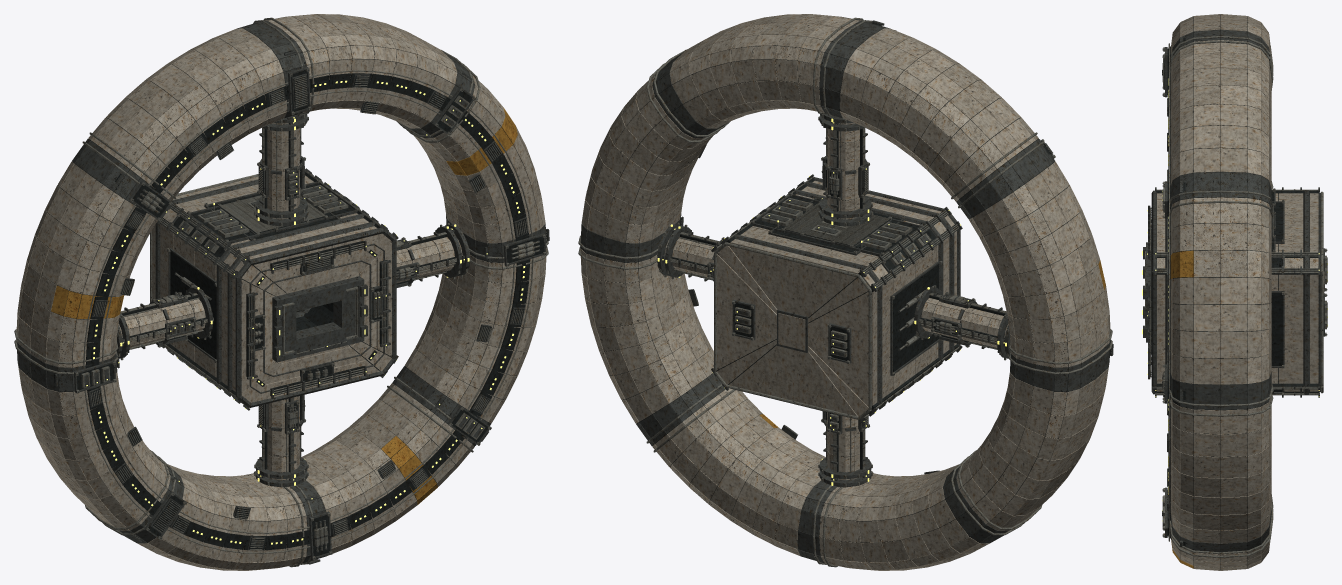
File: trade-ring.glb
The picture shows the model from 3 angles, left to right: view 1: azimuth 30°, elevation 25°; view 2: azimuth 150°, elevation 25°; view 3: azimuth 270°, elevation 25°; orthographic projection. The views are drawn at different scales.
Parts seen in each view (by area): view 1: static/cladding-armour-0, static/dark-structure, static/cladding-armour-2, static/cladding-armour-1, static/recess-black, static/cladding-armour-3, static/machined-alloy, static/cladding-dark-structure, static/plate-backing, static/cladding-service-ochre, static/amber-lamp; view 2: static/cladding-armour-0, static/cladding-armour-2, static/cladding-armour-1, static/cladding-armour-3, static/dark-structure, static/machined-alloy, static/cladding-dark-structure, static/recess-black, static/plate-backing; view 3: static/cladding-armour-1, static/cladding-armour-0, static/cladding-armour-3, static/cladding-armour-2, static/machined-alloy, static/cladding-dark-structure, static/dark-structure, static/recess-black, static/plate-backing, static/cladding-service-ochre.
Part boxes in pixels (left/top/right/bottom): static/cladding-armour-0: left=17, top=14, right=546, bottom=569; static/dark-structure: left=54, top=50, right=549, bottom=564; static/cladding-armour-2: left=18, top=16, right=545, bottom=570; static/cladding-armour-1: left=16, top=14, right=546, bottom=570; static/recess-black: left=54, top=50, right=546, bottom=560; static/cladding-armour-3: left=17, top=14, right=545, bottom=570; static/machined-alloy: left=14, top=17, right=548, bottom=567; static/cladding-dark-structure: left=16, top=21, right=546, bottom=563; static/plate-backing: left=23, top=35, right=538, bottom=562; static/cladding-service-ochre: left=51, top=107, right=517, bottom=504; static/amber-lamp: left=86, top=80, right=525, bottom=544; static/cladding-armour-0: left=580, top=14, right=1110, bottom=570; static/cladding-armour-2: left=581, top=14, right=1109, bottom=570; static/cladding-armour-1: left=580, top=14, right=1107, bottom=569; static/cladding-armour-3: left=581, top=14, right=1109, bottom=570; static/dark-structure: left=657, top=20, right=1113, bottom=486; static/machined-alloy: left=578, top=17, right=1112, bottom=567; static/cladding-dark-structure: left=580, top=21, right=1110, bottom=563; static/recess-black: left=671, top=23, right=1110, bottom=472; static/plate-backing: left=586, top=30, right=1106, bottom=562; static/cladding-armour-1: left=1170, top=16, right=1324, bottom=570; static/cladding-armour-0: left=1170, top=16, right=1318, bottom=570; static/cladding-armour-3: left=1157, top=14, right=1318, bottom=570; static/cladding-armour-2: left=1157, top=14, right=1271, bottom=568; static/machined-alloy: left=1145, top=36, right=1326, bottom=557; static/cladding-dark-structure: left=1170, top=29, right=1271, bottom=553; static/dark-structure: left=1143, top=37, right=1327, bottom=546; static/recess-black: left=1151, top=38, right=1319, bottom=545; static/plate-backing: left=1171, top=14, right=1319, bottom=570; static/cladding-service-ochre: left=1170, top=250, right=1193, bottom=568.
Bounding box in the file's own units: 1341 × 1341 × 444.
Materials: 9 (8 with a texture image).
